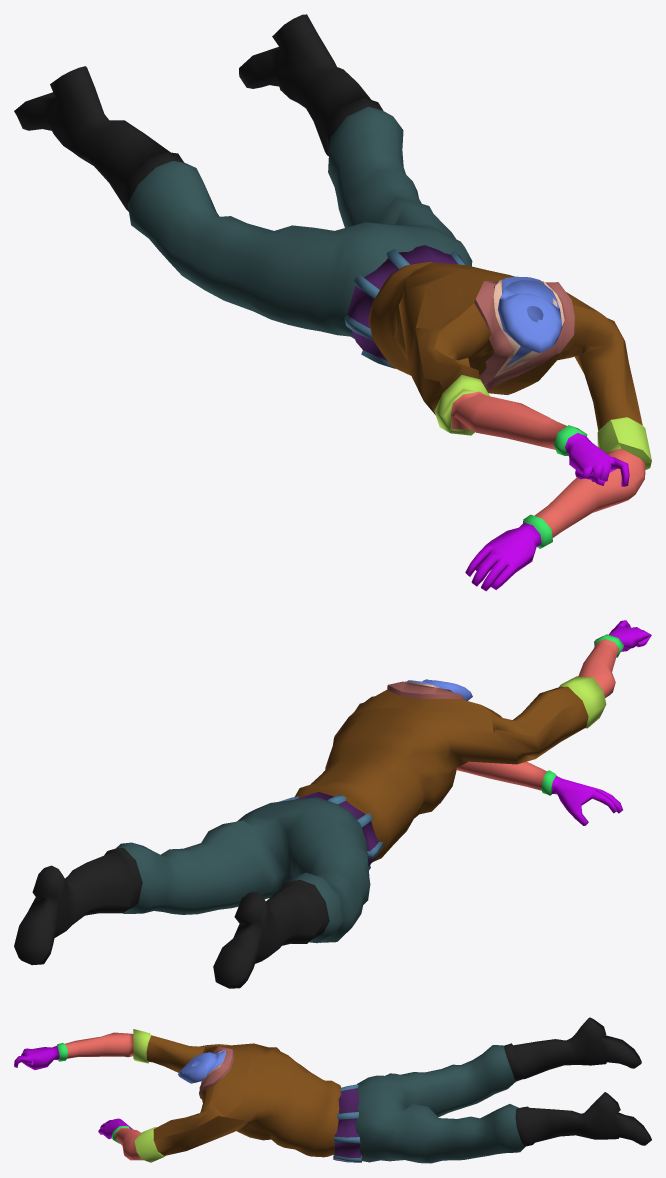
The model's file is bomber2021_material_ids.fbx.
3 renders of one model, top to bottom at view 1: azimuth 30°, elevation 25°; view 2: azimuth 150°, elevation 25°; view 3: azimuth 270°, elevation 25°, orthographic. The views are drawn at different scales.
Visible parts, largest first — view 1: bomber_ref.001; view 2: bomber_ref.001; view 3: bomber_ref.001.
Boxes of the visible parts, x1,y1,x2,y2 form: bomber_ref.001: (14,14,651,591); bomber_ref.001: (14,620,651,988); bomber_ref.001: (14,1017,651,1163).
Bounding box in the file's own units: 2723 × 1920 × 9161.
